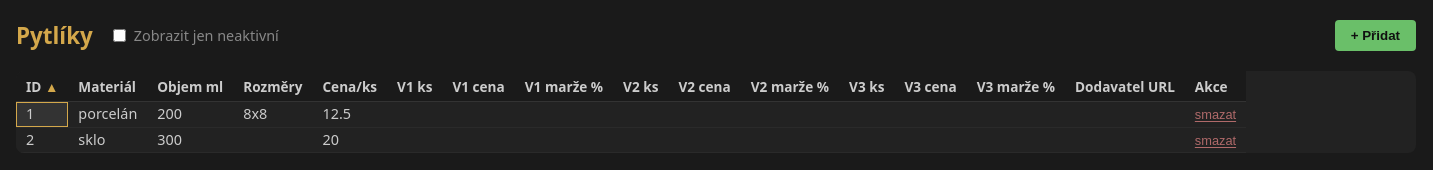
Test: Bags › 409 při mazání zobrazí chybu
expect the text "porcelán" is shown: met, box [68,102,147,127]
Click the button "smazat" in the row of "porcelán". click: point(1215, 114)
box: [1195,107,1236,122]
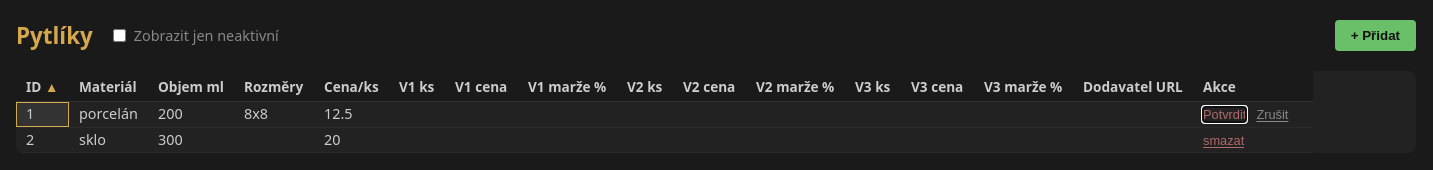
Click the button "Potvrdit". click: point(1225, 114)
box: [1203,107,1246,122]
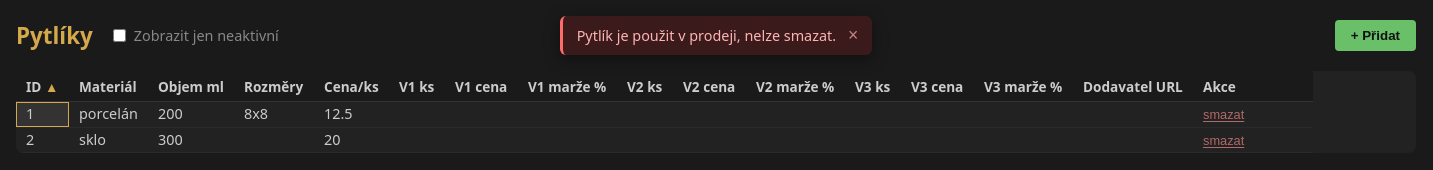
expect the text "Pytlík je použit v prodeji, nelze smazat." is shown: met, box [577,26,836,45]
